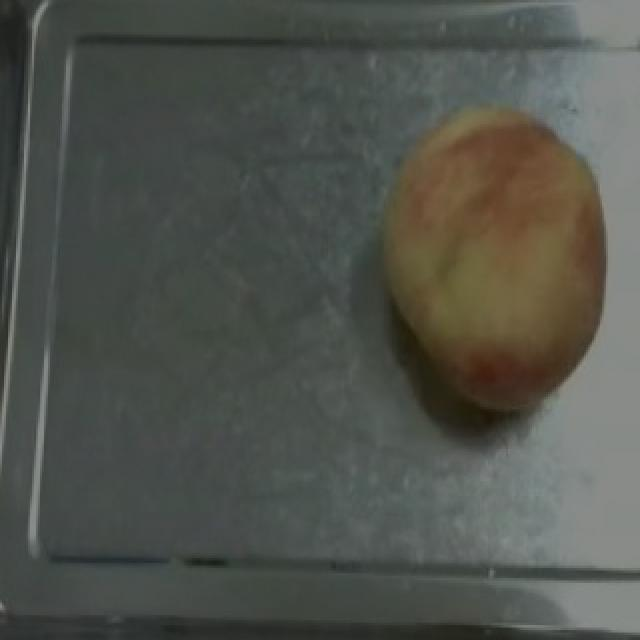Fruit: (366, 87, 624, 399)
